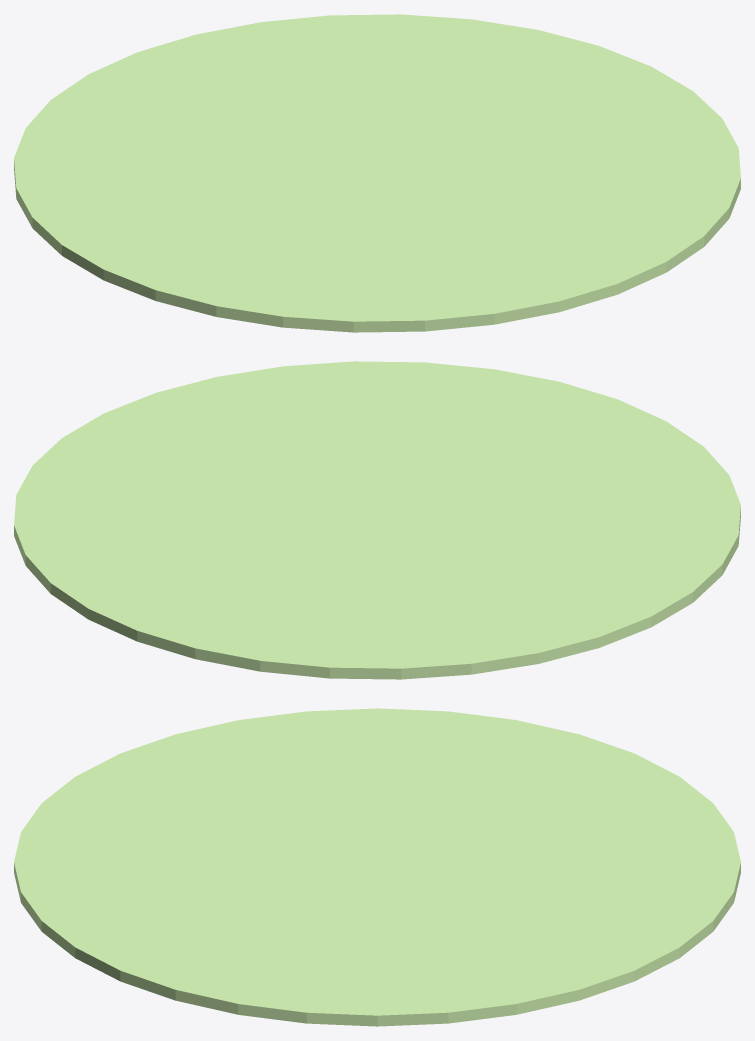
The model's file is disk.obj.
The picture shows the model from 3 angles, top to bottom: view 1: azimuth 30°, elevation 25°; view 2: azimuth 150°, elevation 25°; view 3: azimuth 270°, elevation 25°; orthographic projection.
Visible parts, largest first — view 1: 円柱; view 2: 円柱; view 3: 円柱.
Part boxes in pixels (x1,y1,x2,y2): 円柱: (14, 14, 740, 332); 円柱: (14, 361, 740, 679); 円柱: (14, 708, 740, 1026).
Bounding box in the file's own units: 2 × 0.033 × 2.
Materials: 1 (1 with a texture image).
